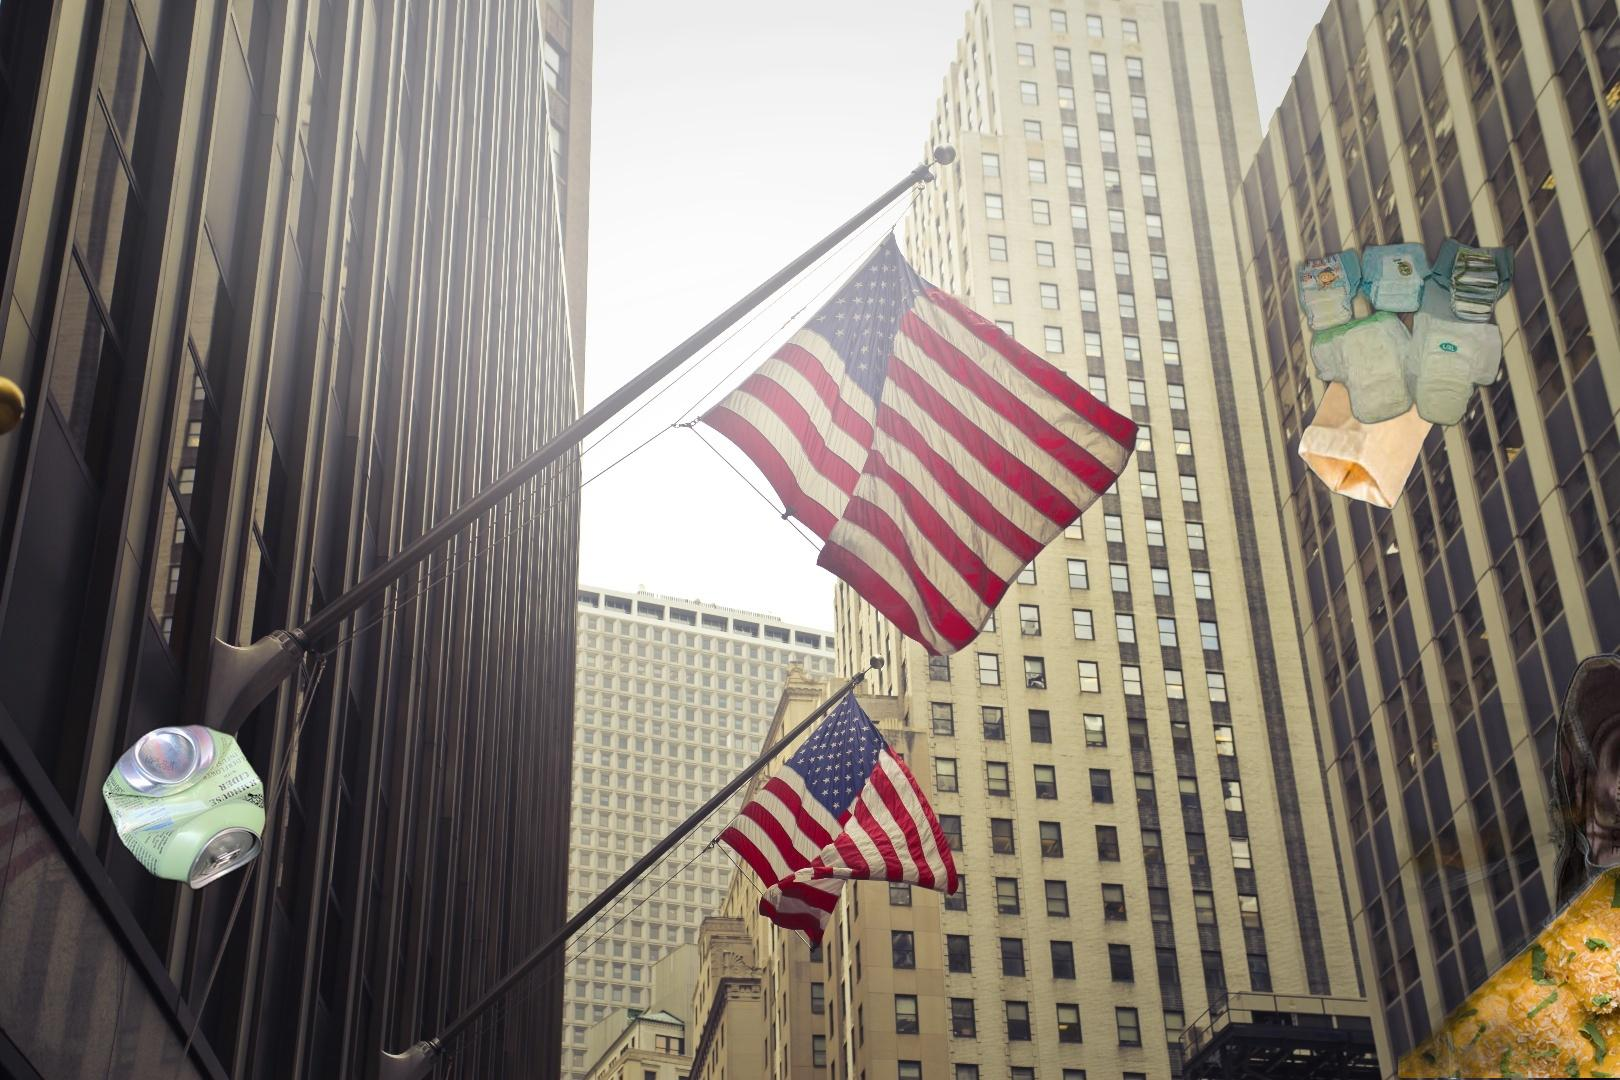biological: (1398, 703, 1620, 1078)
metal-cans: (98, 718, 272, 896)
paper: (1602, 1045, 1620, 1080)
paper-bag: (1295, 346, 1442, 511)
penholder: (1155, 1019, 1620, 1080)
shoes: (1544, 621, 1620, 1080)
trash: (1291, 234, 1516, 429)
